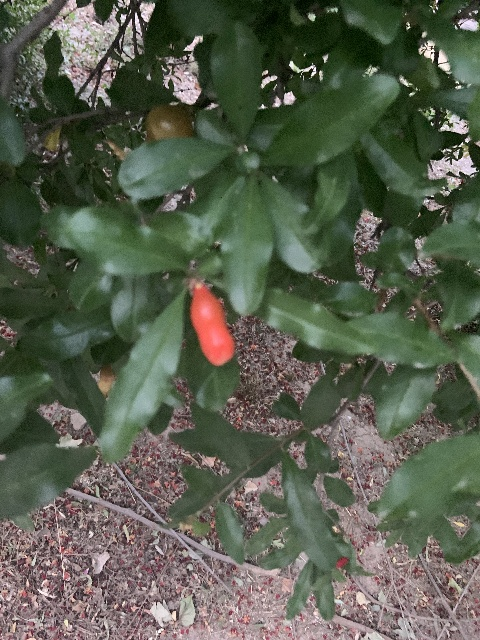bud: (189, 283, 235, 367)
early-fruit: (105, 103, 194, 160)
